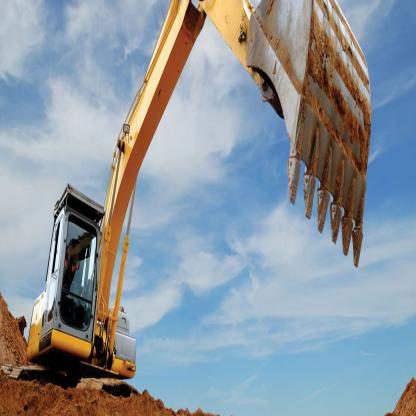excavator: (28, 0, 376, 413)
